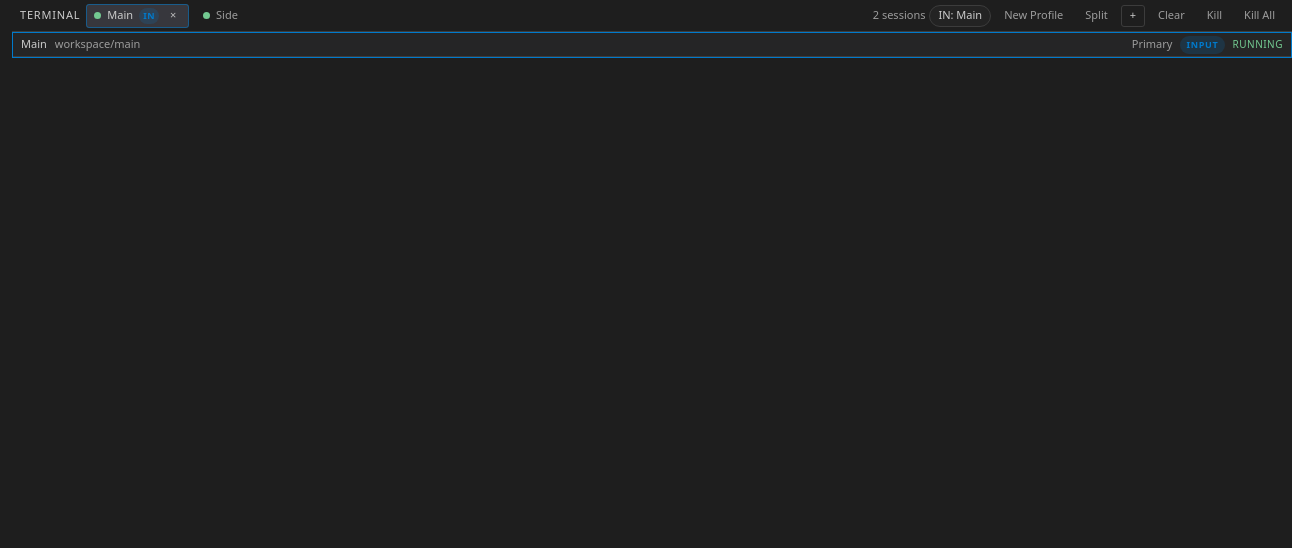
Test case: TerminalPanel › updates the input target label when the focused pane changes
The width and height of the screenshot is (1292, 548).
Click the button "Split".
click(1097, 16)  # box [1076,4,1117,26]
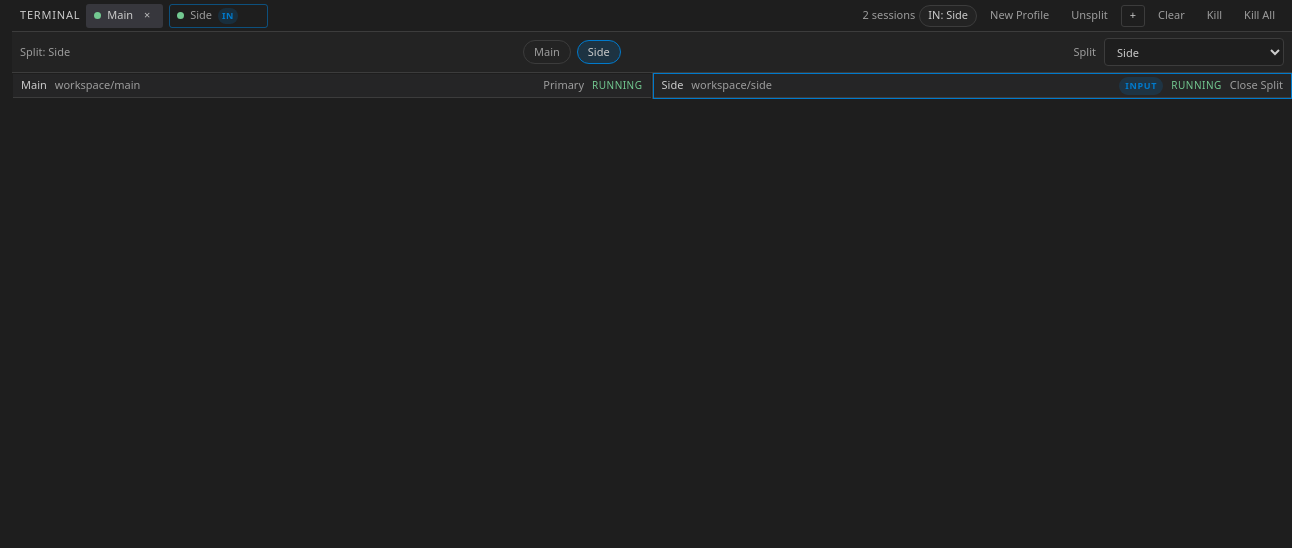
Now the text with class "toolbar-target" shows "Side", box [928,7,968,22]
Click the button with class "split-target-chip" showing "Main".
click(547, 52)  # box [523,40,571,64]
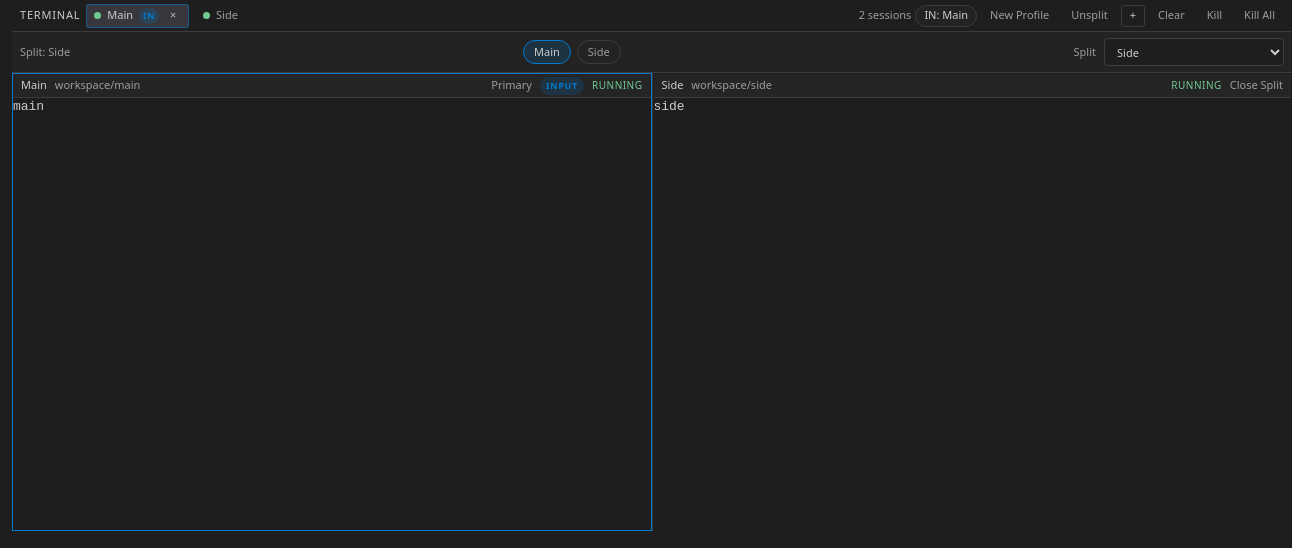
Now the text with class "toolbar-target" shows "Main", box [924,7,968,22]
